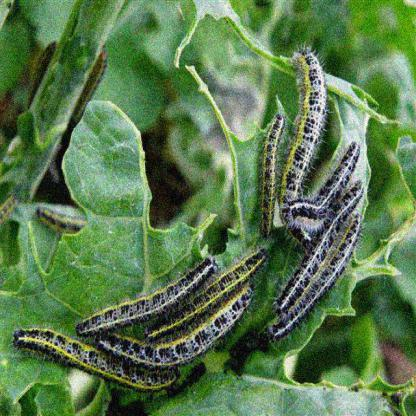pieris: (99, 280, 256, 370), (11, 324, 180, 391), (76, 259, 215, 333), (277, 45, 329, 219)
